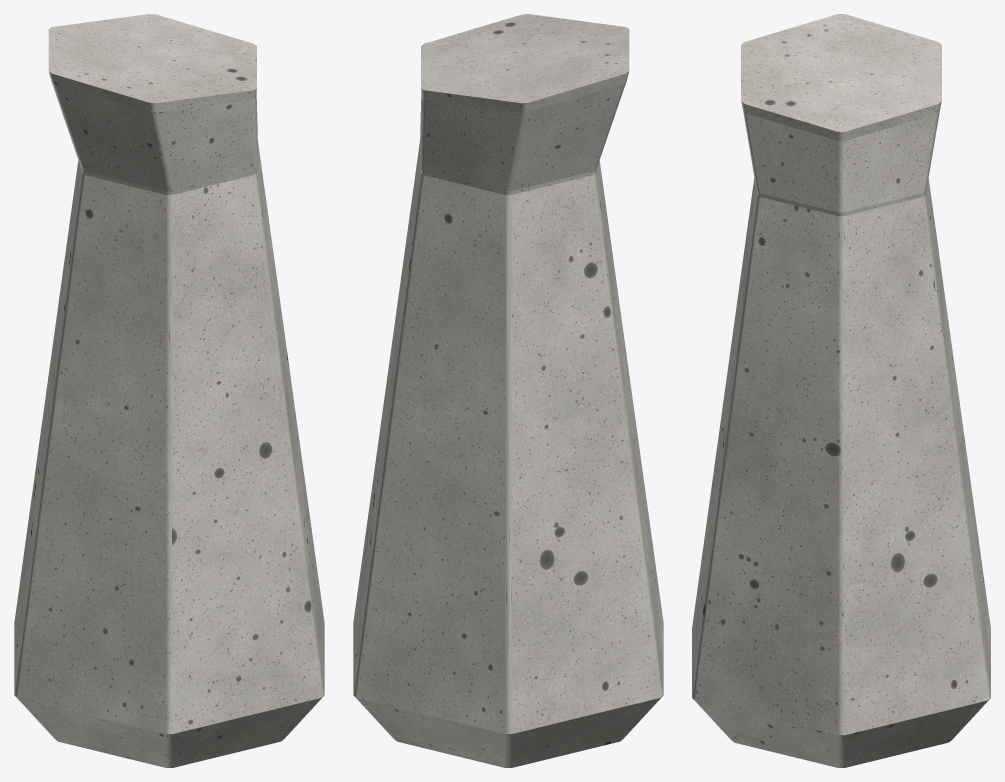
Rendered from knight-white-hd.glb.
3 renders of one model, left to right at view 1: azimuth 30°, elevation 25°; view 2: azimuth 150°, elevation 25°; view 3: azimuth 270°, elevation 25°, orthographic. The views are drawn at different scales.
Parts seen in each view (by area): view 1: HEXALITH_white_knight; view 2: HEXALITH_white_knight; view 3: HEXALITH_white_knight.
Part boxes in pixels (<box>): HEXALITH_white_knight: <box>14,14,324,767</box>; HEXALITH_white_knight: <box>353,14,663,767</box>; HEXALITH_white_knight: <box>692,14,990,767</box>.
Size of the model in its own units: 0.5372 by 1.12 by 0.4705.
Materials: 1 (1 with a texture image).
